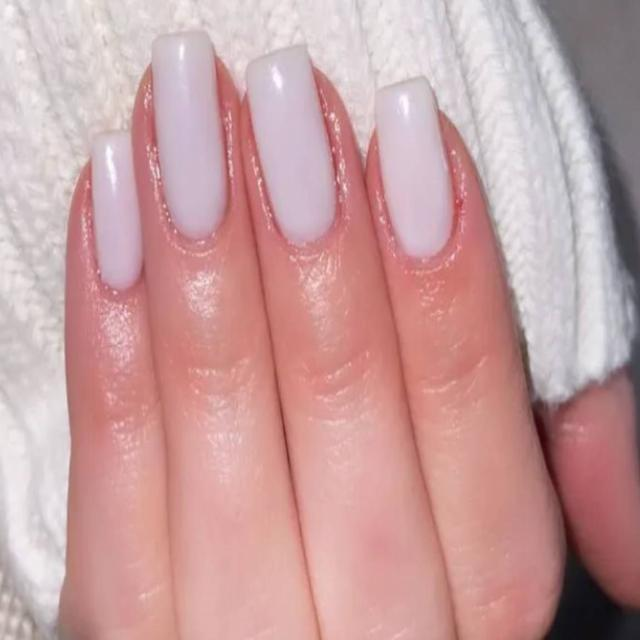Nail: (248, 48, 336, 244), (154, 31, 228, 239), (375, 78, 451, 258), (92, 131, 142, 289)
